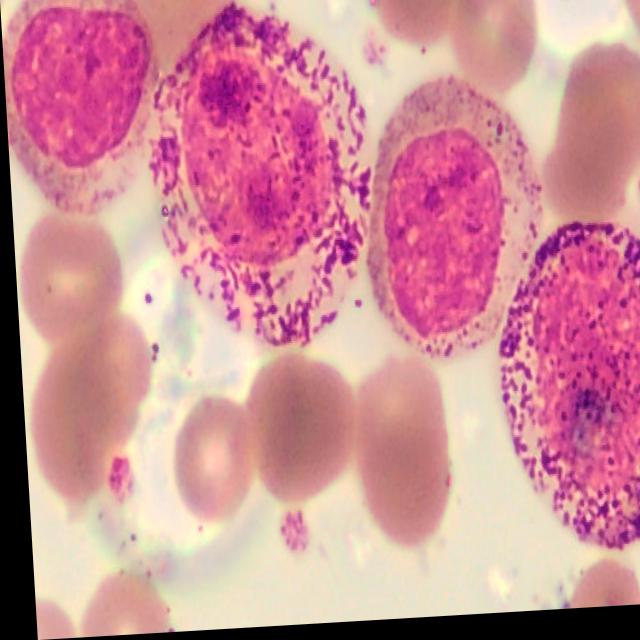Mielocito: (362, 81, 540, 365), (2, 0, 155, 216)
Promielocito: (148, 2, 364, 349), (493, 227, 640, 557)
